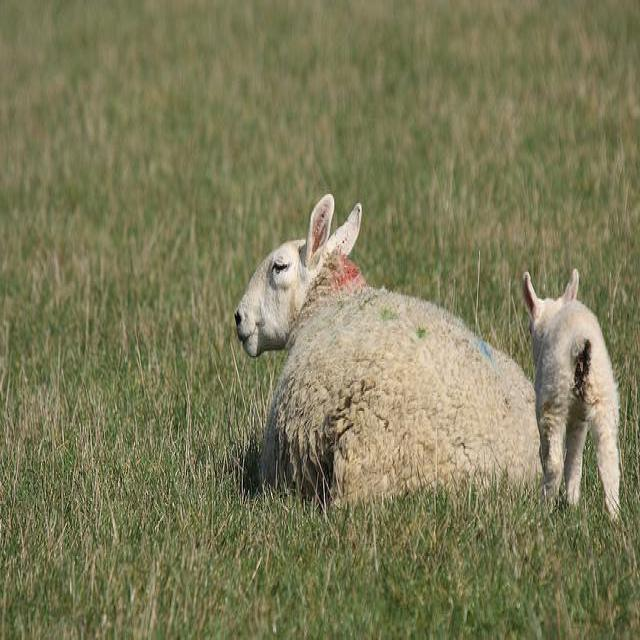Sheep: (237, 196, 539, 504), (520, 261, 619, 521)
